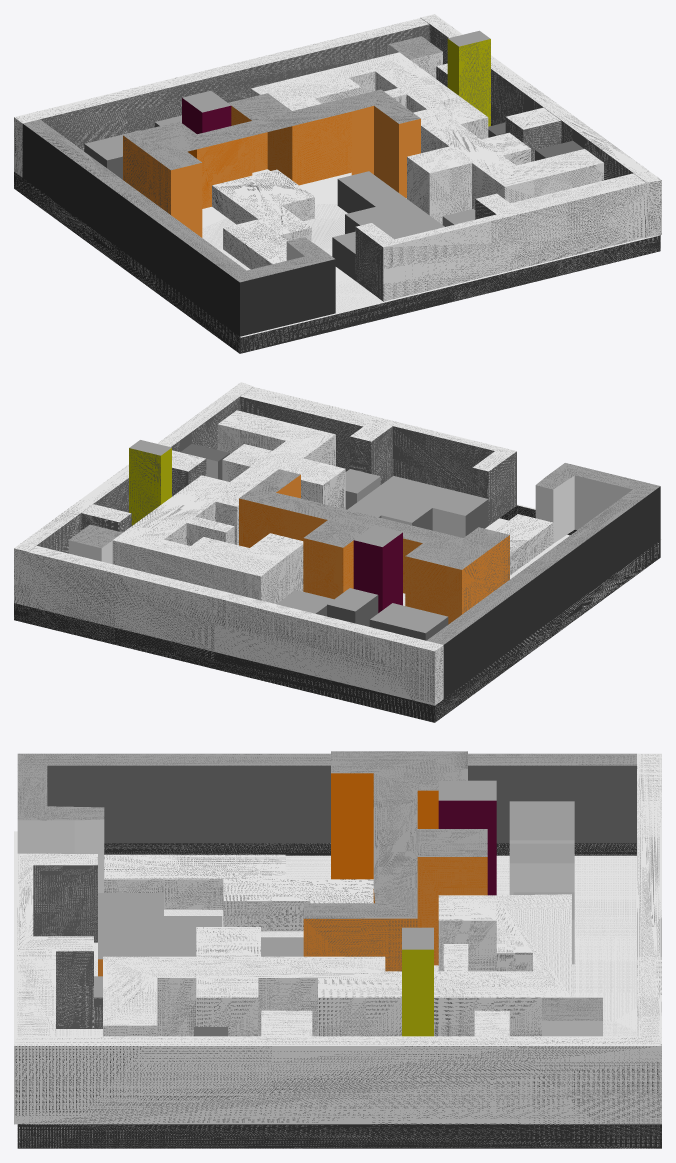
Rendered from labyrinth.dae.
The picture shows the model from 3 angles, top to bottom: view 1: azimuth 30°, elevation 25°; view 2: azimuth 150°, elevation 25°; view 3: azimuth 270°, elevation 25°; orthographic projection. The views are drawn at different scales.
Visible parts, largest first — view 1: SketchUp (×23); view 2: SketchUp (×26); view 3: SketchUp (×27).
Boxes of the visible parts, <box> form: SketchUp (×23): <box>14,14,661,353</box>; SketchUp (×26): <box>14,382,661,722</box>; SketchUp (×27): <box>14,751,661,1148</box>.
Bounding box in the file's own units: 577 × 540 × 160.
